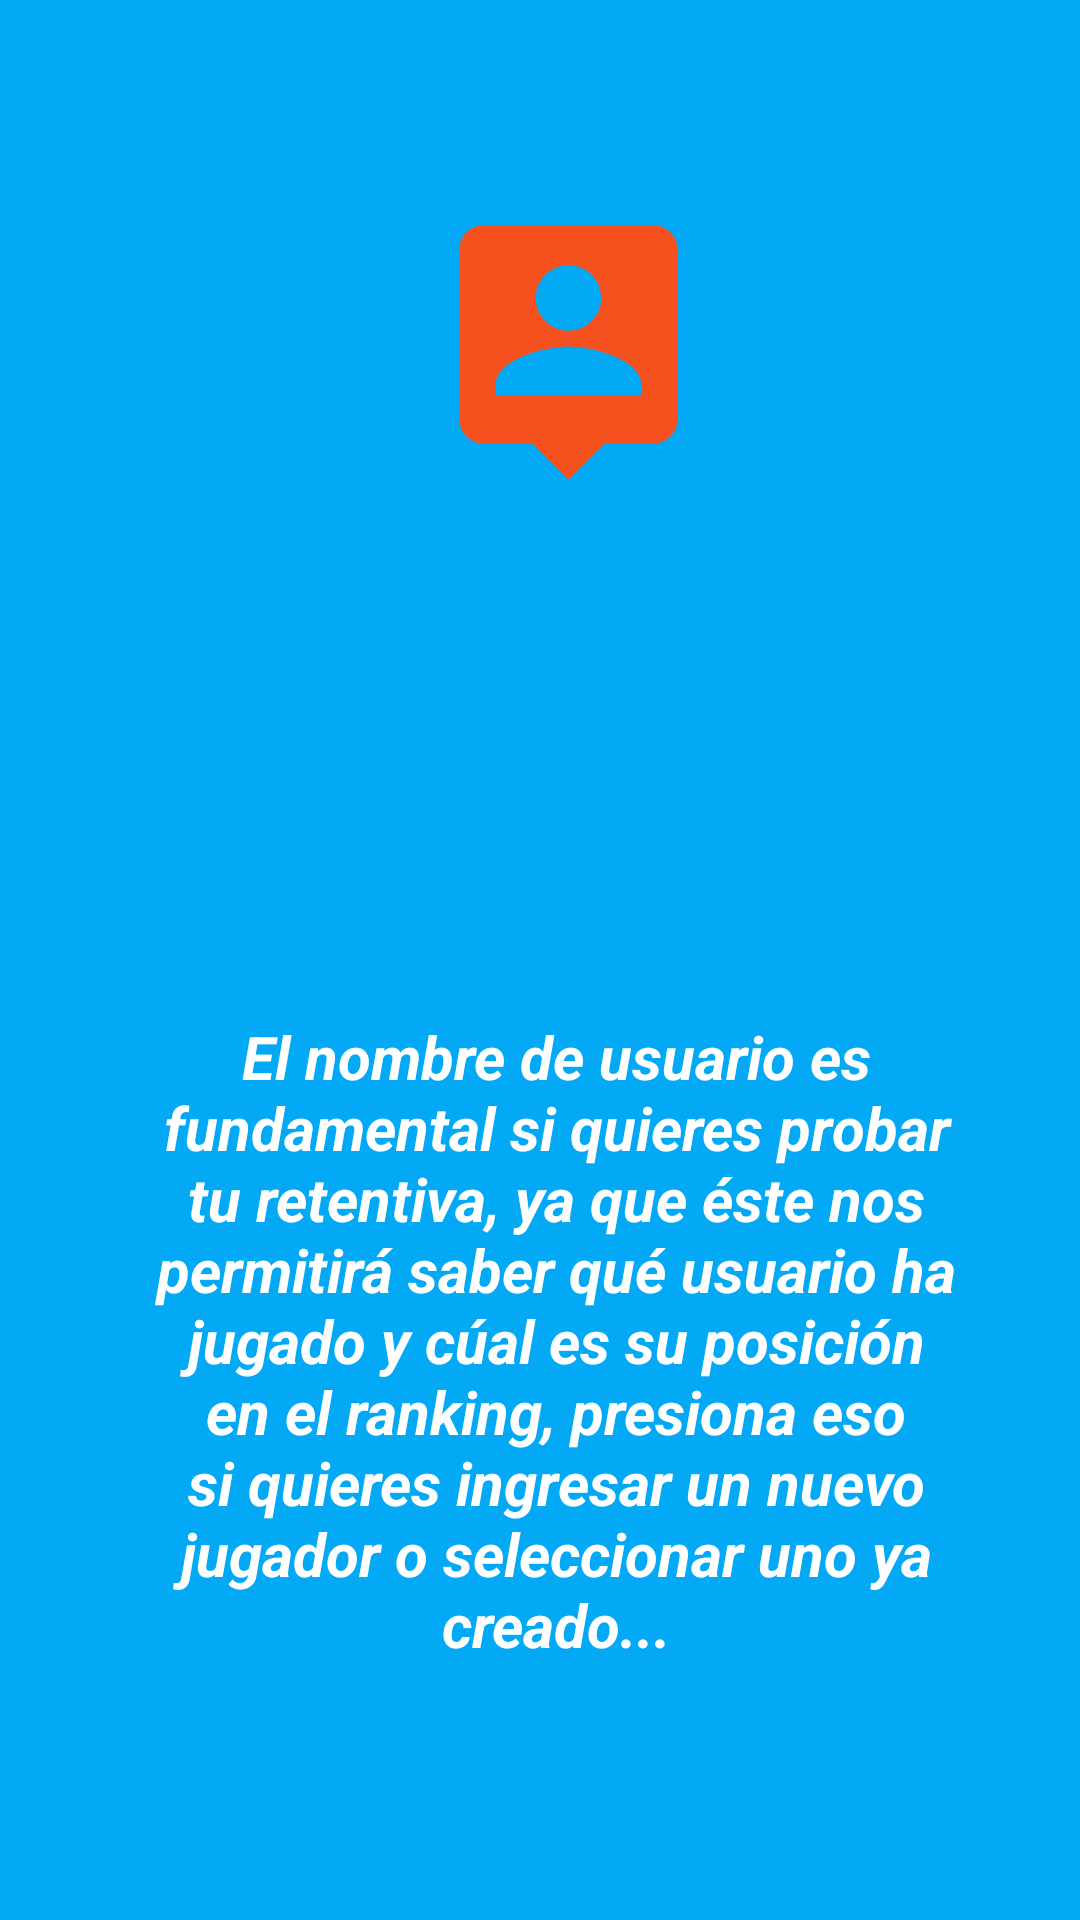

Icons on this 1080x1920 Android screen, each with its box as (x1, y1, x2, y2):
person pin: (459, 225, 678, 480)
